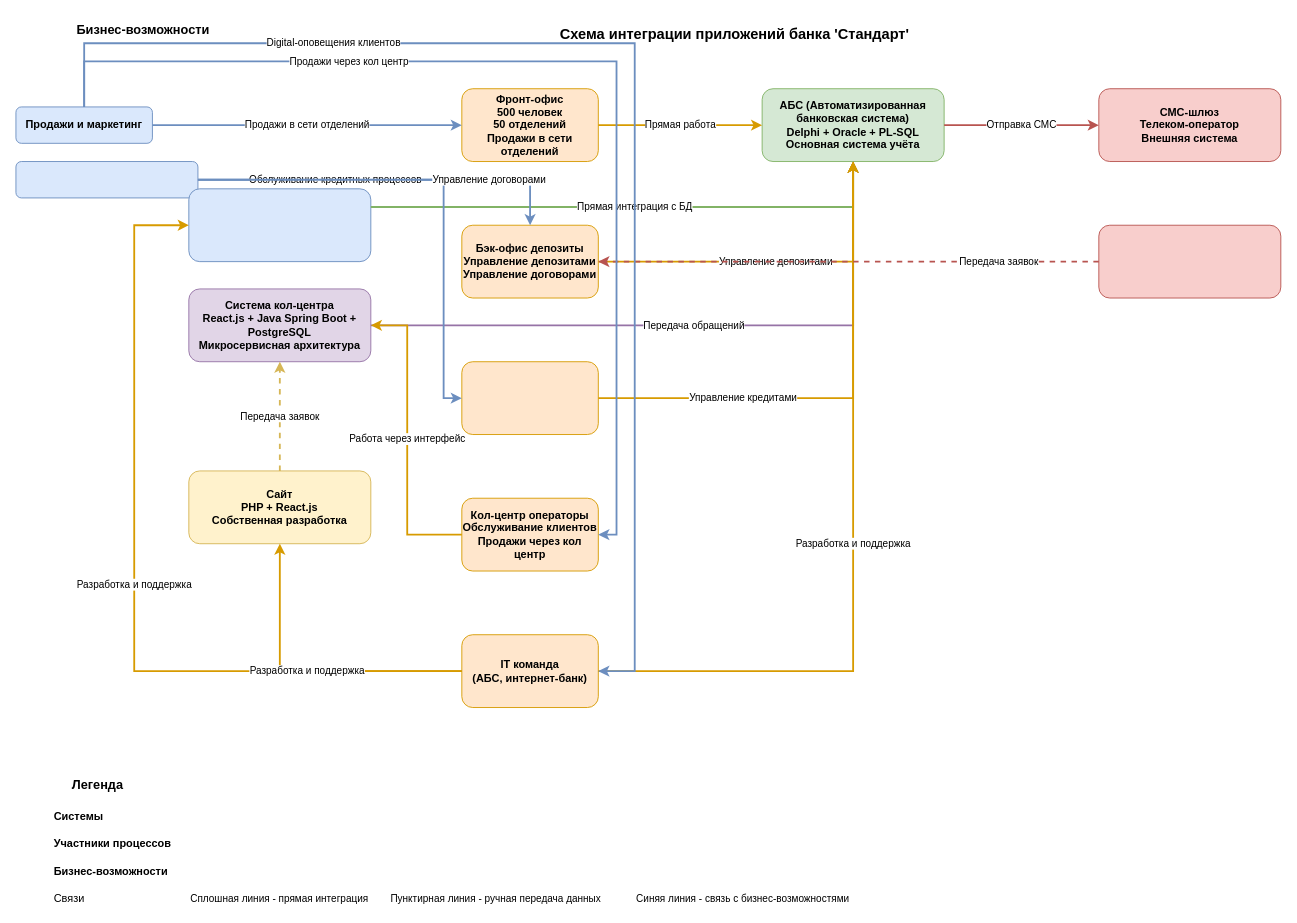
The diagram is 1297 pixels wide and 923 high, and some of its shapes have lost their labels. Each missing label, with the centre of its shape:
"Бэк-офис кредиты Управление кредитами Обслуживание кредитных процессов" goes at pixel 529 398.
"Интернет-банк ASP.NET MVC 4.5 + MS SQL Платформа подрядчика" goes at pixel 279 225.
"Партнёрский кол-центр Внешняя система" goes at pixel 1189 261.
"Поддержка операционных процессов" goes at pixel 106 179.
